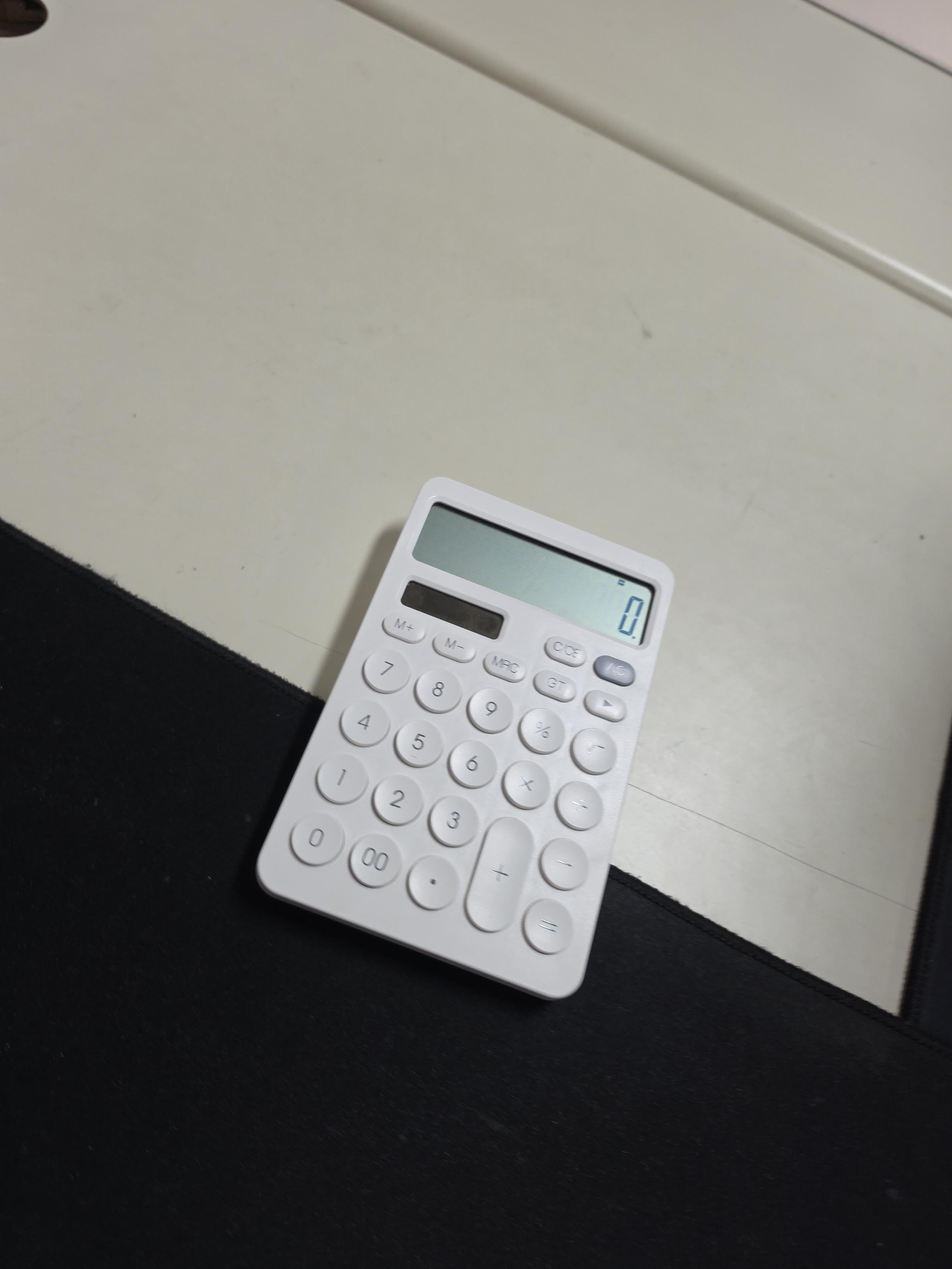calculator: (256, 477, 675, 1001)
